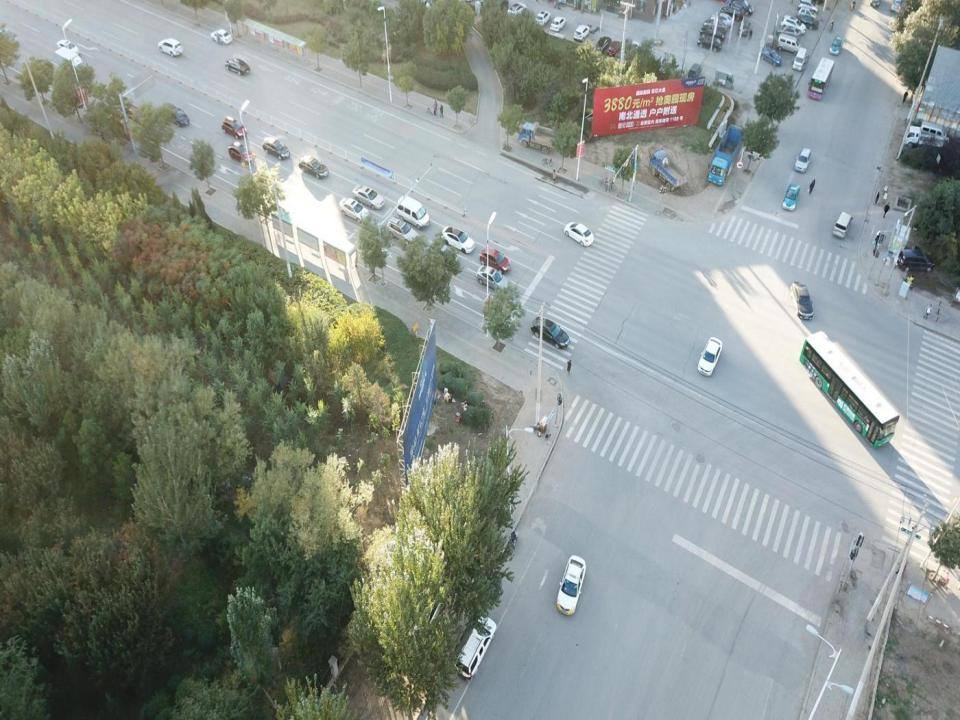bus: (800, 330, 899, 448), (806, 57, 834, 100)
car: (455, 615, 496, 682), (558, 552, 586, 619), (531, 314, 569, 349), (697, 337, 723, 378), (790, 280, 815, 322), (441, 226, 474, 256), (476, 267, 508, 295), (354, 184, 386, 212), (898, 250, 935, 274), (387, 219, 417, 248), (340, 196, 368, 226), (563, 221, 594, 247), (481, 245, 510, 271), (159, 102, 190, 126), (429, 243, 457, 269), (298, 157, 328, 180), (261, 139, 290, 161), (227, 140, 252, 164), (222, 116, 246, 139), (782, 185, 801, 211), (700, 25, 727, 43), (760, 47, 782, 68), (225, 56, 248, 76), (782, 14, 805, 34), (157, 39, 184, 56), (55, 38, 79, 57), (211, 29, 234, 48), (698, 35, 722, 53), (796, 147, 812, 172), (711, 10, 734, 27), (704, 17, 728, 33), (731, 0, 754, 16), (719, 5, 743, 20), (795, 14, 818, 28), (623, 40, 639, 59), (798, 0, 818, 15), (594, 37, 612, 53), (535, 9, 550, 28), (798, 7, 818, 21), (549, 16, 566, 32), (574, 25, 589, 43), (508, 2, 526, 17), (830, 36, 843, 55), (607, 40, 621, 56), (738, 19, 750, 35), (890, 0, 903, 14)
truck: (707, 123, 743, 184), (518, 119, 567, 157), (648, 145, 687, 190), (54, 44, 84, 78), (904, 125, 945, 147)
van: (396, 196, 430, 229), (920, 122, 949, 146), (834, 212, 852, 240), (778, 34, 800, 56), (713, 70, 735, 90), (793, 47, 807, 73), (687, 62, 702, 81)
